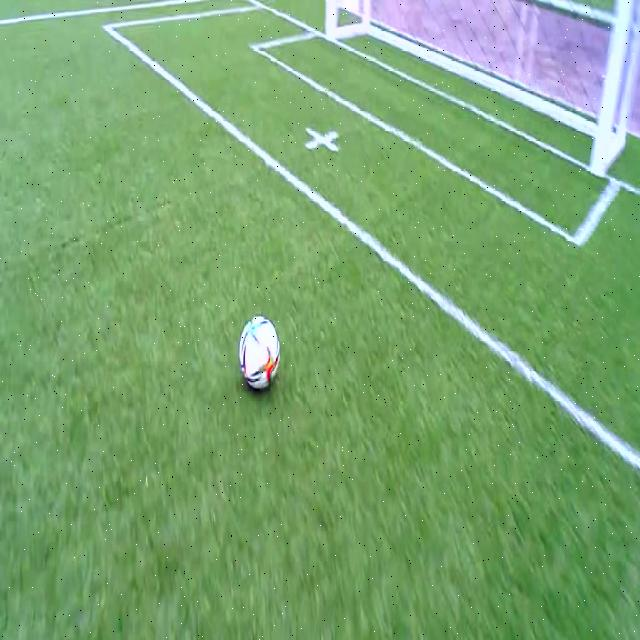ball: (238, 315, 279, 388)
